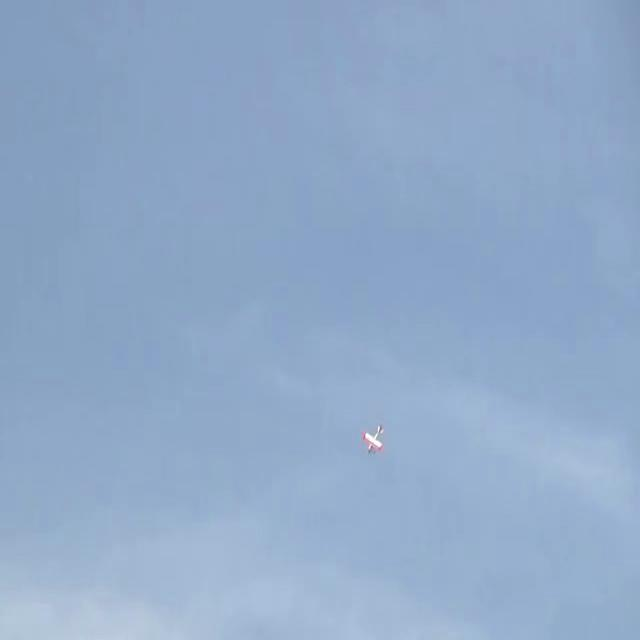iha: (358, 423, 388, 455)
